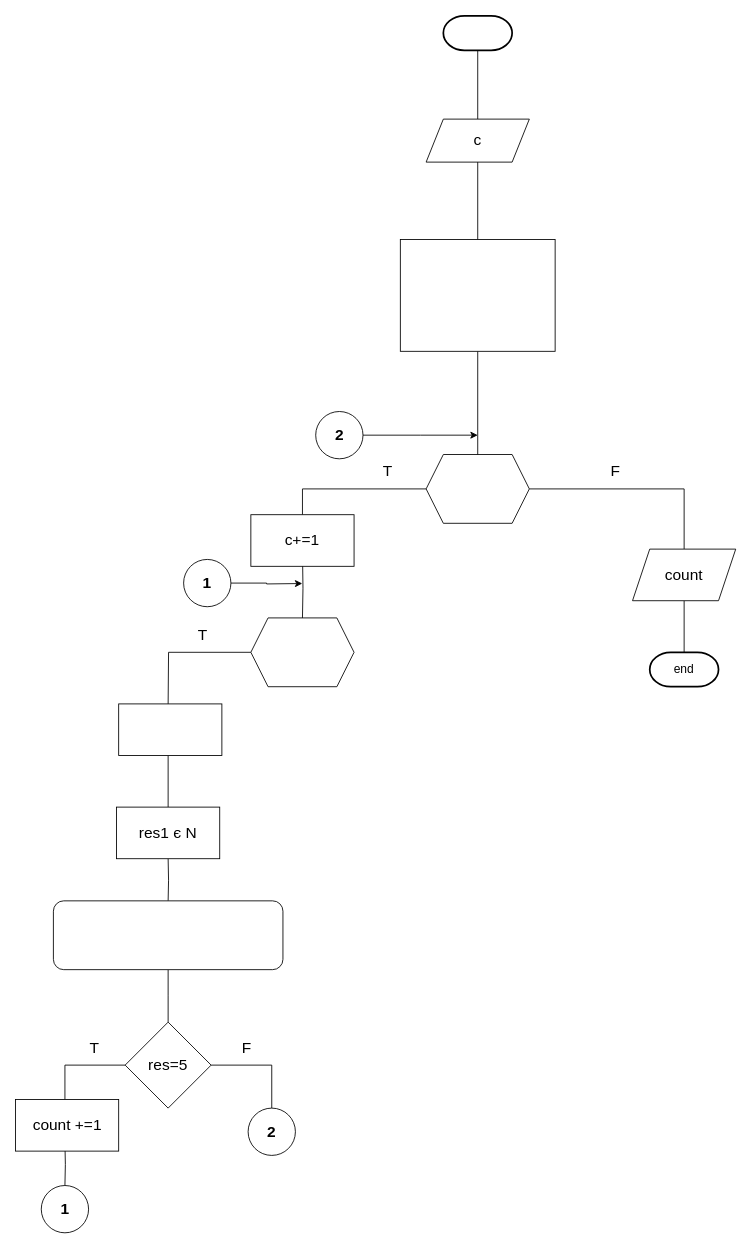
The diagram is 751 pixels wide and 1248 high, and some of its shapes have lost their labels. Here are the shapes that lost their labels. From the top down, the centre of each, then its label:
(477,33): start
(477,295): d=13; res=0; res1; (c* 100 - 100); count=0
(477,488): i = 1 i<=100; i++
(302,652): m = 1 i<=12; m++
(170,729): res1 = 2.6 * m - 0.2
(168,935): res = res1 + d + c % 100 + +(c % 100) / 4 + (c / 100) / 4 - - 2 * c / 100) % 7;
